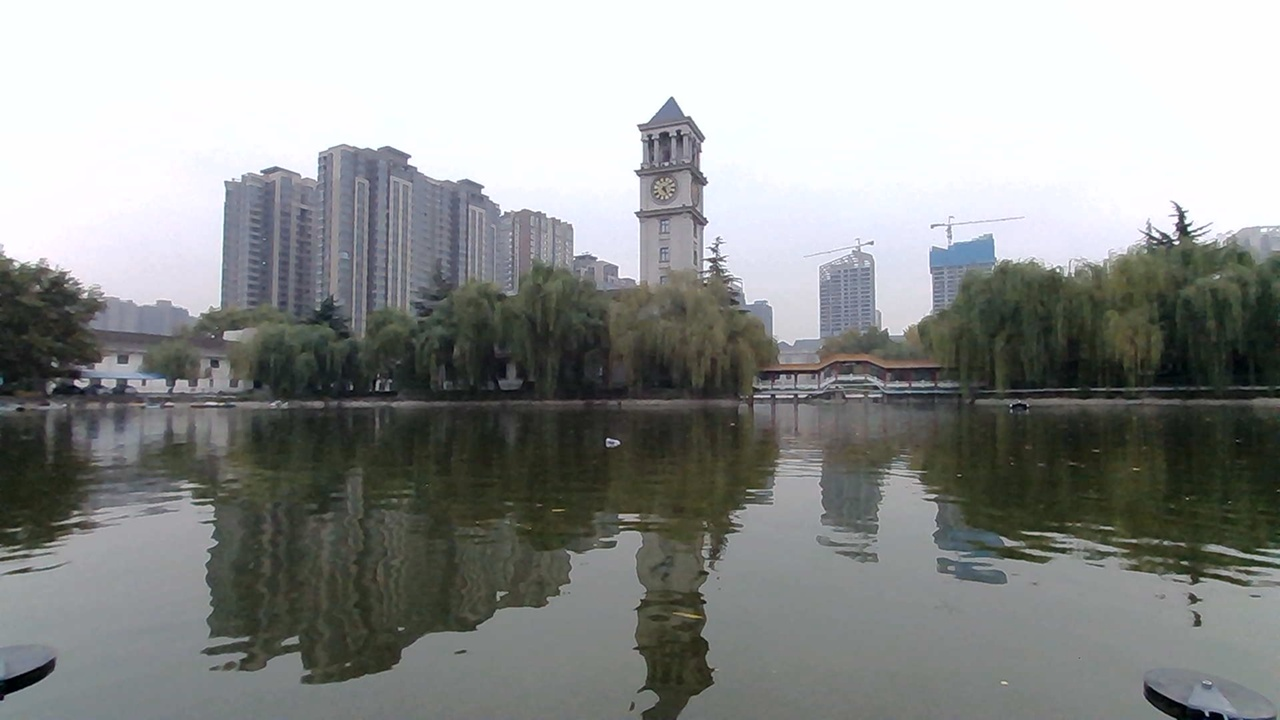bottle: (594, 424, 646, 462)
